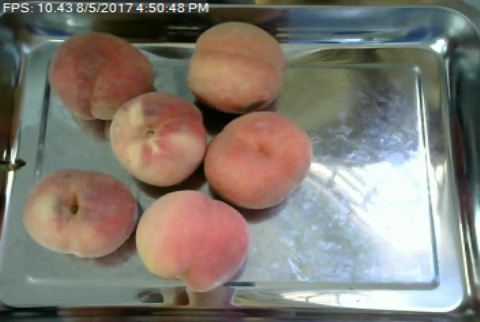Peach: (134, 189, 248, 289), (205, 111, 310, 209), (24, 168, 139, 257), (105, 91, 209, 187), (47, 30, 155, 121), (187, 21, 284, 112)
